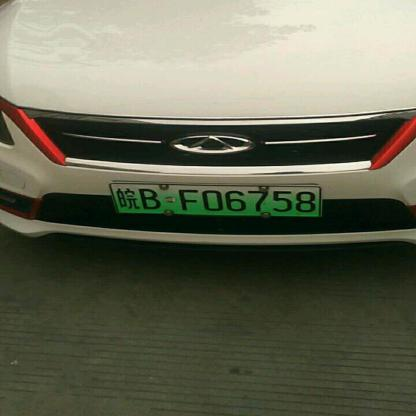lp: (109, 184, 320, 216)
